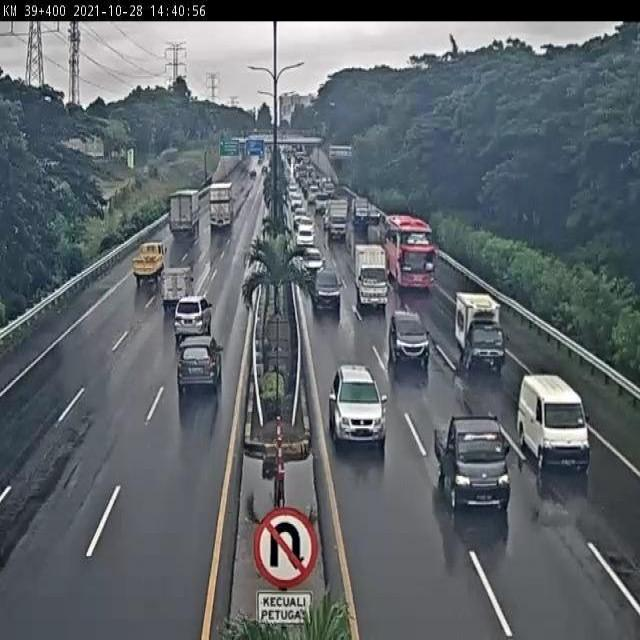big bus: (382, 213, 433, 290)
car: (433, 412, 513, 512), (517, 373, 589, 472), (328, 364, 386, 447), (176, 336, 222, 395), (388, 310, 431, 366), (171, 295, 214, 341), (310, 266, 342, 314), (298, 244, 325, 277)
mid truck: (353, 242, 390, 310)
small truck: (455, 291, 505, 368), (161, 263, 194, 305)
truck-m-: (132, 240, 167, 285)
